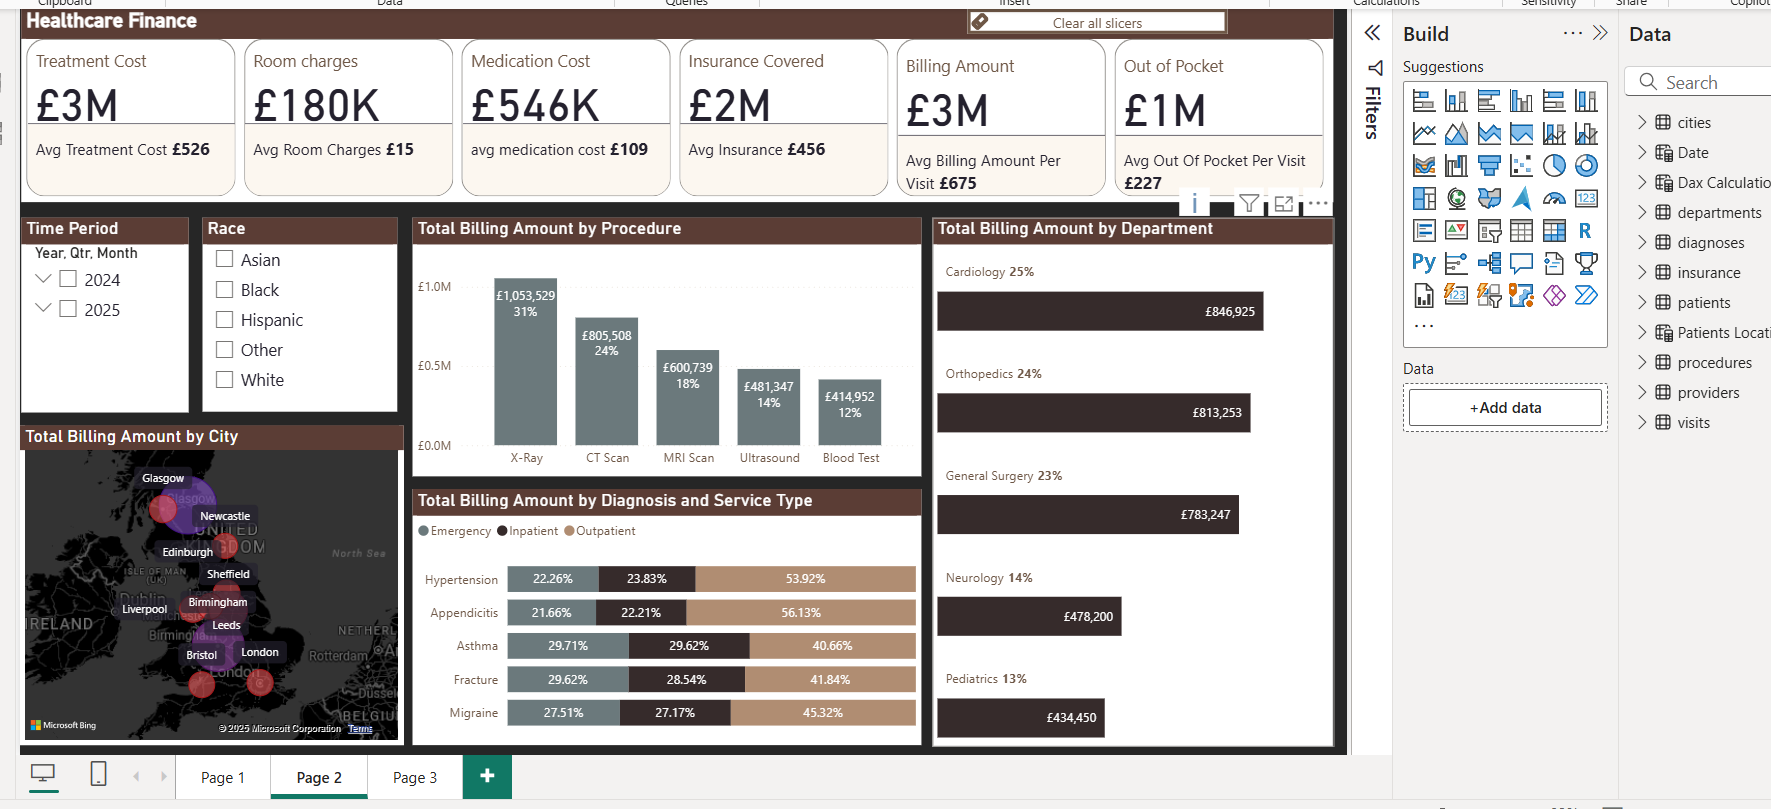

What the dashboard file says about the page in this screenshot:
{"tool":"powerbi","page":{"name":"Page 2","canvas":[1280,720],"ordinal":1},"visuals":[{"type":"cardVisual","title":"Healthcare Finance","fields":{"Data":["Dax Calculations.Total Treatment Cost","Dax Calculations.Total Room Charges","Dax Calculations.Total Medication Cost","Dax Calculations.Total Insurance Covered","Dax Calculations.Total Billing Amount","Dax Calculations.Out of Pocket"]},"box":[1.2,0,1266.2,186.2],"z":0},{"type":"map","fields":{"Category":["cities.City"],"Size":["Dax Calculations.Total Billing Amount"]},"box":[0,401.7,370.4,308.8],"z":1000},{"type":"clusteredColumnChart","fields":{"Category":["procedures.Procedure"],"Y":["Dax Calculations.Total Billing Amount"]},"box":[378.8,201.5,491,249.7],"z":3000},{"type":"hundredPercentStackedBarChart","fields":{"Y":["Dax Calculations.Total Billing Amount"],"Category":["diagnoses.Diagnosis"],"Series":["visits.Service Type"]},"box":[378.8,463.3,491,247.3],"z":4000},{"type":"clusteredBarChart","title":"Total Billing Amount by Department","fields":{"Category":["departments.Department"],"Y":["Dax Calculations.Blank Measure","Dax Calculations.Total Billing Amount"]},"box":[881.2,201.2,386.2,510],"z":5000},{"type":"slicer","title":"Time Period","fields":{"Values":["Date.Year","Date.Qtr","Date.Month"]},"box":[1.3,201.1,161.6,187.9],"z":5001},{"type":"slicer","title":"Race","fields":{"Values":["patients.Race"]},"box":[176.1,201.5,188.2,187],"z":5002},{"type":"actionButton","box":[914.7,0,251,24],"z":5003}]}

Visuals, with their boxes on the page's 1280x720 design canvas (x1, y1, x2, y2). These are canvas units, not pixel positions in the 1771x809 screenshot, which may show the page scaled, cropped or inside an application window:
"Healthcare Finance" cardVisual: x1=1, y1=0, x2=1267, y2=186
map - cities.City x Dax Calculations.Total Billing Amount: x1=0, y1=402, x2=370, y2=710
clusteredColumnChart - procedures.Procedure x Dax Calculations.Total Billing Amount: x1=379, y1=202, x2=870, y2=451
hundredPercentStackedBarChart - Dax Calculations.Total Billing Amount x diagnoses.Diagnosis: x1=379, y1=463, x2=870, y2=711
"Total Billing Amount by Department" clusteredBarChart: x1=881, y1=201, x2=1267, y2=711
"Time Period" slicer: x1=1, y1=201, x2=163, y2=389
"Race" slicer: x1=176, y1=202, x2=364, y2=388
actionButton: x1=915, y1=0, x2=1166, y2=24
